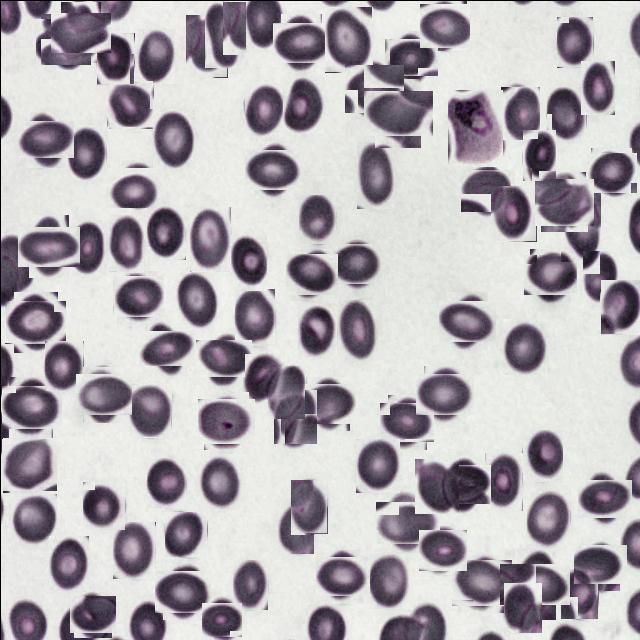red blood cell: (368, 84, 426, 142), (324, 6, 372, 72), (507, 556, 562, 612), (346, 61, 401, 116), (379, 496, 434, 550), (1, 438, 56, 492), (536, 174, 590, 228), (453, 556, 508, 608), (204, 1, 246, 68), (8, 295, 61, 348), (560, 192, 600, 261), (189, 206, 231, 271), (4, 380, 56, 432), (22, 220, 74, 272), (54, 6, 106, 57), (185, 14, 227, 77), (526, 490, 570, 549), (151, 108, 194, 168), (490, 185, 536, 241), (38, 15, 88, 66), (356, 141, 394, 208), (158, 566, 208, 616), (419, 369, 469, 419), (112, 521, 155, 579), (502, 318, 546, 374), (276, 17, 325, 67), (248, 144, 298, 193), (78, 369, 128, 418), (337, 299, 377, 360), (10, 493, 56, 546), (273, 389, 317, 444), (414, 457, 458, 512), (436, 459, 485, 508), (442, 296, 492, 344), (282, 76, 324, 133), (234, 288, 275, 346), (355, 438, 399, 492), (176, 270, 217, 327), (129, 382, 171, 437), (366, 553, 408, 608), (199, 334, 247, 382), (108, 162, 156, 210), (318, 552, 366, 600), (462, 166, 510, 214), (420, 1, 468, 48), (546, 86, 586, 142), (200, 453, 240, 509), (66, 219, 106, 275), (383, 398, 430, 445), (526, 251, 573, 298), (288, 250, 334, 298), (48, 535, 88, 590), (600, 279, 640, 334), (484, 452, 522, 509), (306, 379, 352, 426), (576, 540, 623, 586), (107, 81, 153, 127), (114, 272, 160, 318), (22, 116, 68, 162), (588, 150, 634, 196), (143, 325, 189, 371), (581, 474, 627, 520), (82, 481, 125, 530), (67, 126, 106, 180), (146, 205, 185, 259), (500, 84, 539, 138), (297, 302, 336, 356), (244, 81, 282, 136), (108, 214, 144, 272), (522, 429, 562, 481), (388, 34, 433, 80), (230, 233, 266, 290), (267, 365, 305, 419), (146, 457, 186, 508), (244, 353, 284, 404), (137, 28, 174, 83), (420, 527, 465, 572), (290, 479, 327, 533), (44, 340, 83, 391), (334, 240, 378, 285), (164, 511, 207, 557), (96, 32, 134, 84), (560, 568, 598, 619), (582, 250, 618, 303), (298, 194, 336, 244), (503, 582, 541, 632), (556, 16, 593, 67), (232, 559, 268, 610), (580, 60, 614, 114), (277, 502, 313, 552), (522, 129, 556, 181), (71, 593, 113, 635), (202, 600, 240, 637)
ring: (200, 394, 252, 446)
trophozoite: (447, 89, 502, 166)
